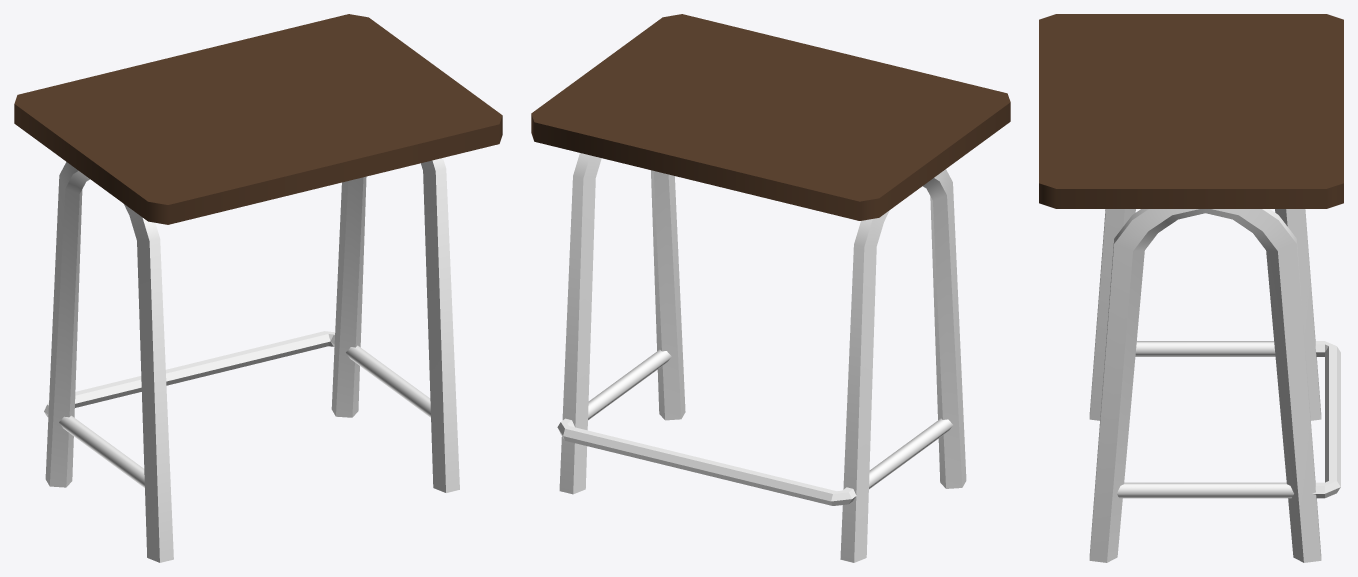
Rendered from desk(student).FBX.
3 renders of one model, left to right at view 1: azimuth 30°, elevation 25°; view 2: azimuth 150°, elevation 25°; view 3: azimuth 270°, elevation 25°, orthographic. The views are drawn at different scales.
Visible parts, largest first — view 1: Box001; view 2: Box001; view 3: Box001.
Part boxes in pixels (x1,y1,x2,y2): Box001: (14, 14, 502, 562); Box001: (531, 14, 1010, 562); Box001: (1039, 14, 1343, 562).
Size of the model in its own units: 75.26 by 77.18 by 55.42.
